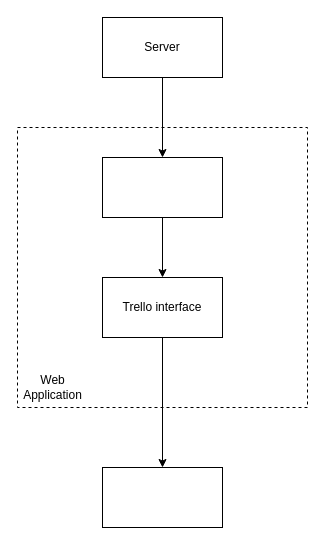
Image size: 325x545. Some labels were removed from this diagram. The centre of each missing label's shape, as x and y in pixels:
Flask web routes: the point at 162,187
Trello: the point at 162,497
